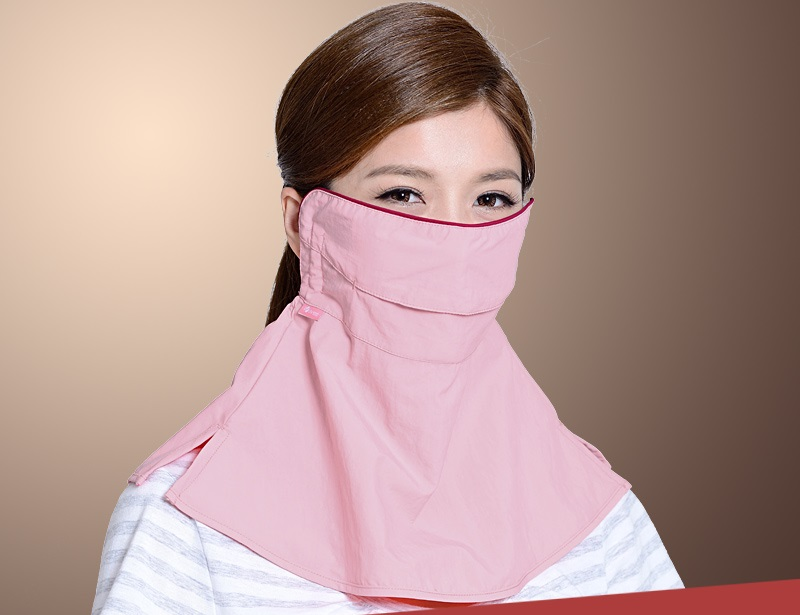face_mask: (342, 99, 527, 338)
